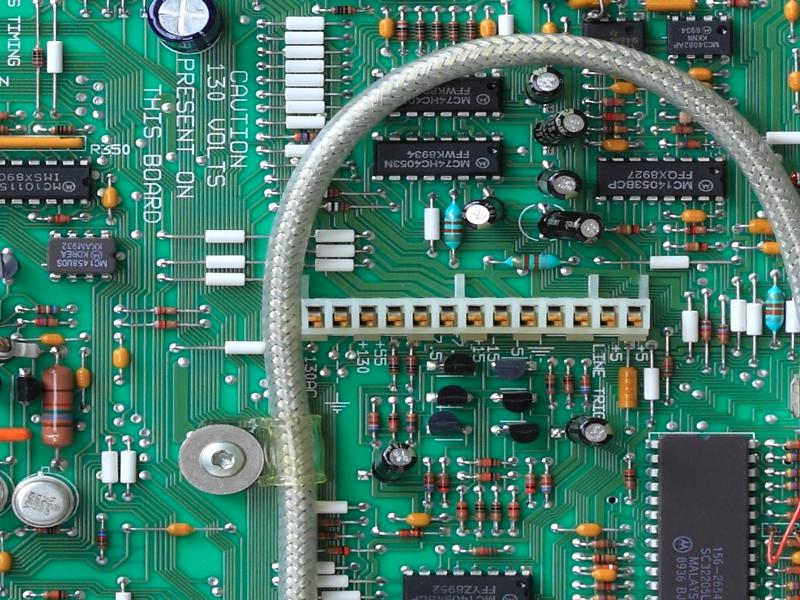Capacitor: (144, 1, 225, 54), (537, 205, 605, 247), (365, 440, 419, 490), (530, 104, 590, 149), (458, 194, 510, 234), (562, 412, 616, 449), (520, 65, 567, 106), (535, 164, 585, 202)
Diode: (394, 527, 428, 541)
Resistor: (39, 360, 76, 456), (497, 252, 568, 273), (761, 281, 788, 336), (440, 198, 464, 256), (365, 407, 383, 440), (697, 316, 715, 348), (453, 498, 472, 528), (621, 464, 638, 497), (472, 454, 507, 470), (587, 550, 622, 566), (560, 370, 578, 401), (577, 370, 594, 402), (468, 545, 502, 561), (680, 240, 714, 256), (43, 210, 76, 226), (538, 469, 555, 500), (472, 497, 489, 528), (586, 536, 621, 551), (522, 468, 538, 500), (28, 303, 67, 316), (715, 318, 731, 349), (327, 2, 360, 17), (587, 579, 625, 592), (420, 468, 437, 497), (542, 370, 559, 399), (436, 469, 453, 498), (659, 353, 676, 382), (45, 122, 80, 136), (470, 471, 505, 485), (599, 123, 634, 137), (38, 587, 75, 600), (672, 138, 709, 151), (488, 497, 504, 527), (148, 303, 182, 317), (394, 18, 411, 46), (320, 200, 354, 214), (612, 222, 643, 237), (404, 408, 420, 437), (505, 497, 521, 526), (149, 318, 182, 332), (667, 122, 700, 136), (29, 316, 67, 328), (596, 96, 631, 109), (681, 223, 711, 238), (387, 406, 401, 438), (404, 352, 420, 380), (290, 130, 322, 144), (411, 18, 428, 44), (386, 352, 401, 381), (322, 544, 353, 558), (95, 524, 109, 554), (429, 18, 445, 44), (445, 19, 461, 44), (31, 524, 64, 536), (600, 110, 628, 124), (464, 17, 478, 44), (588, 583, 625, 593), (31, 45, 45, 70), (315, 518, 344, 530), (724, 1, 755, 12), (312, 532, 342, 542)
